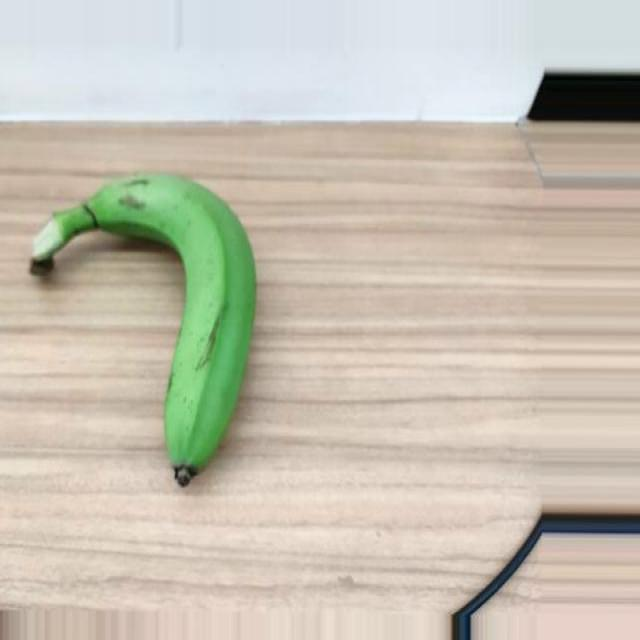Unripe: (29, 170, 258, 486)
